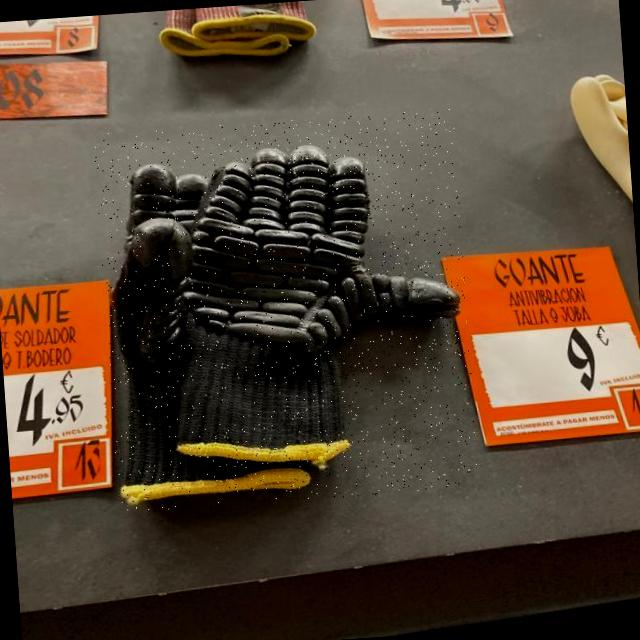gloves: (101, 109, 478, 508)
